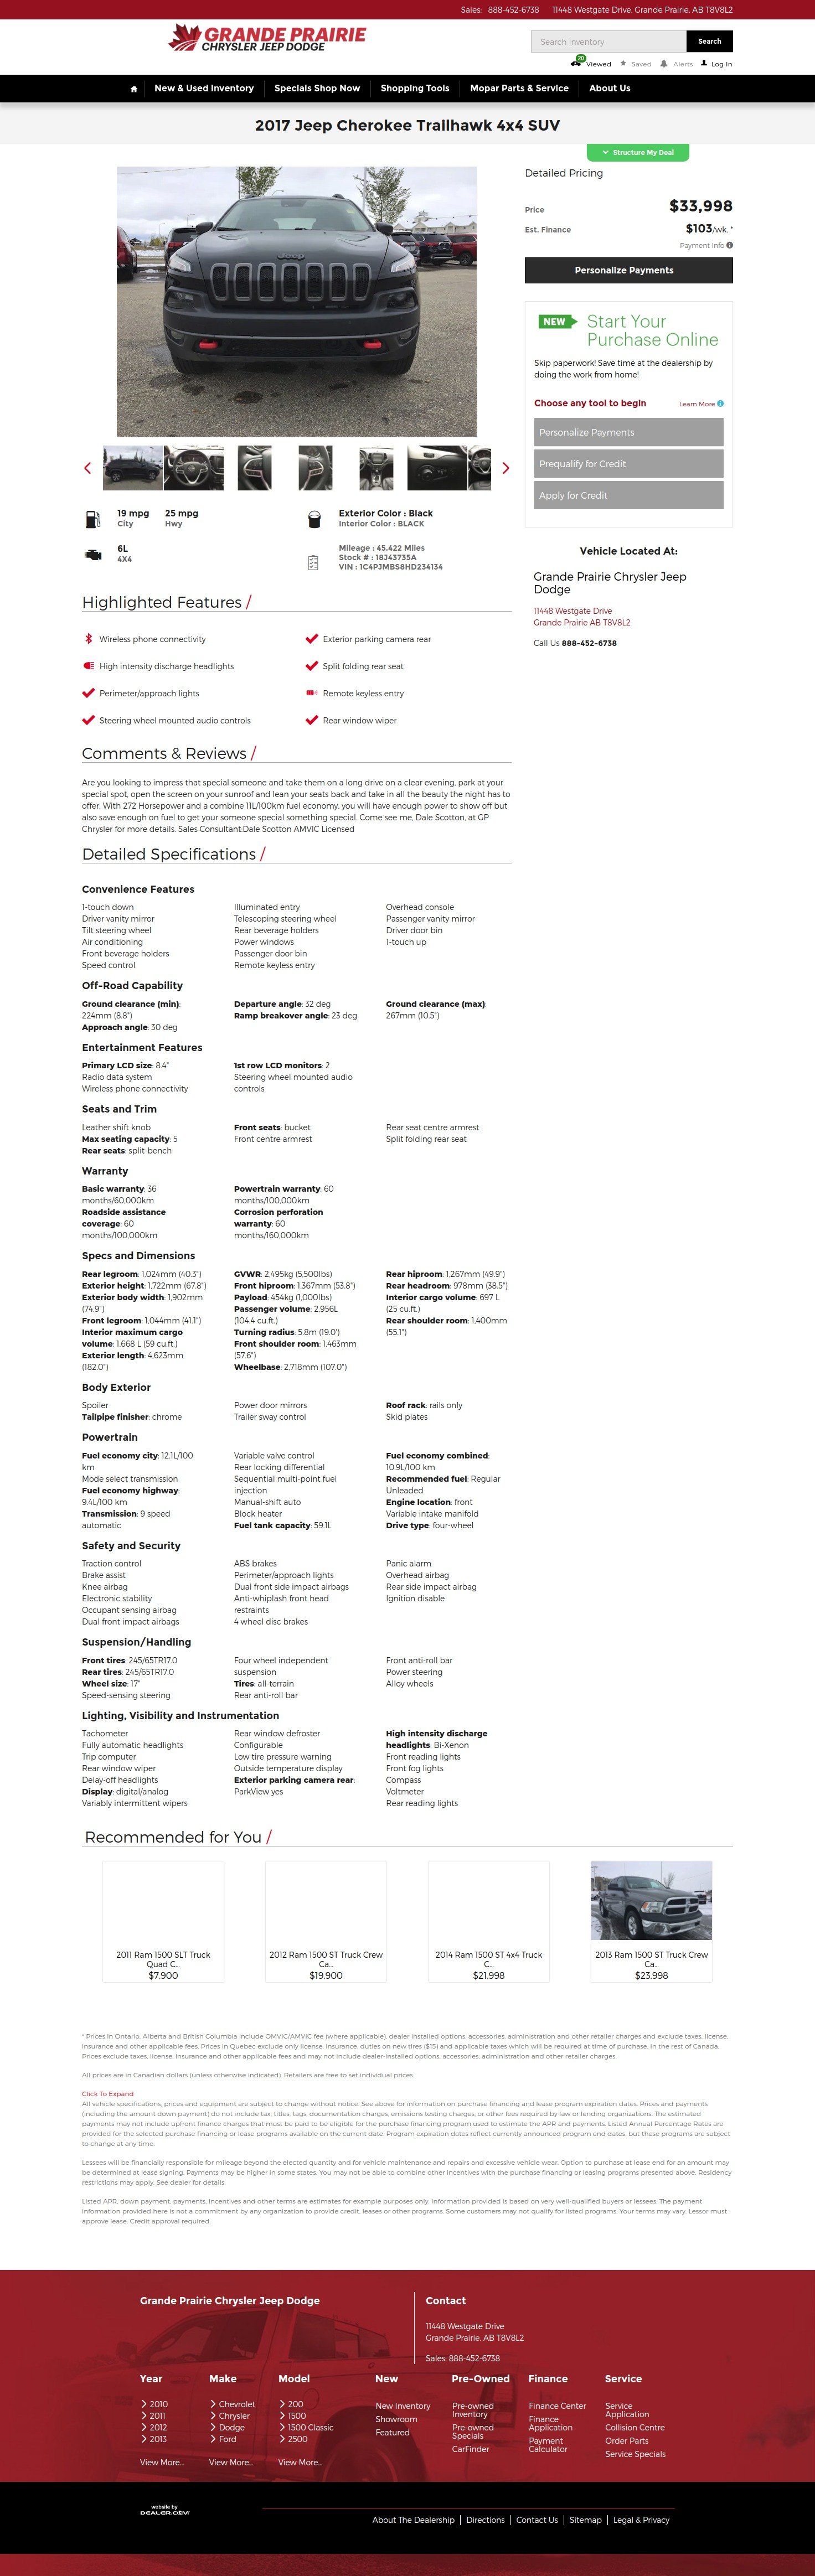car: (503, 462, 509, 475)
